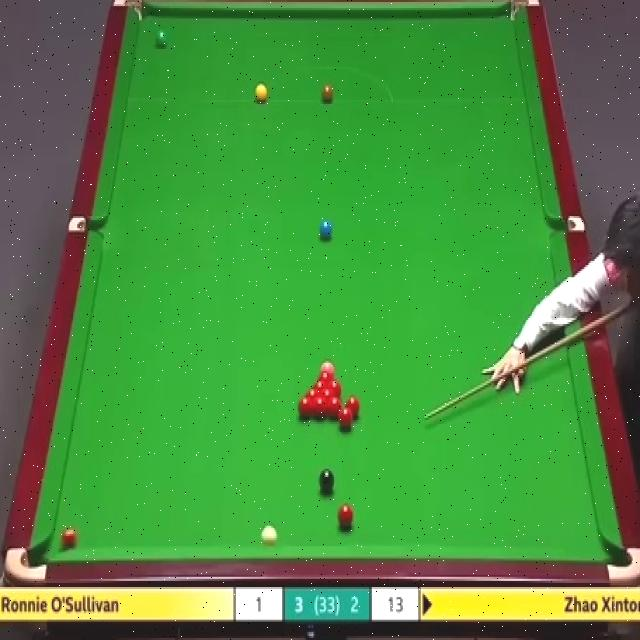black-ball: (320, 469, 336, 495)
blue-ball: (319, 220, 333, 240)
brown-ball: (321, 85, 334, 104)
green-ball: (156, 30, 167, 49)
pink-ball: (319, 359, 337, 372)
red-ball: (60, 526, 77, 551), (337, 503, 352, 530), (297, 396, 312, 418), (338, 408, 352, 431), (346, 396, 360, 419), (328, 396, 342, 419), (312, 396, 326, 417), (328, 379, 342, 395), (316, 368, 334, 379), (312, 379, 327, 389), (320, 388, 336, 397), (305, 388, 319, 398)
white-ball: (262, 520, 278, 547)
yellow-ball: (255, 82, 268, 101)
